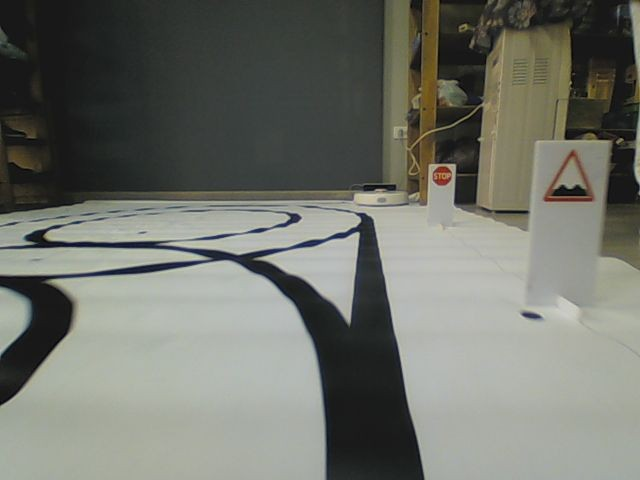Stop: (432, 166, 453, 186)
